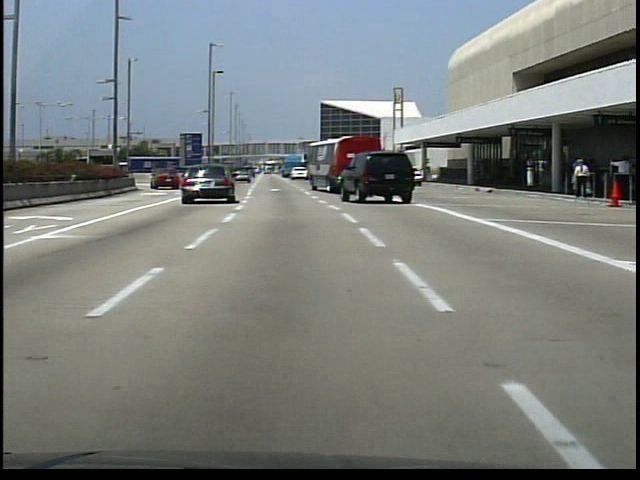person: (568, 155, 592, 202)
